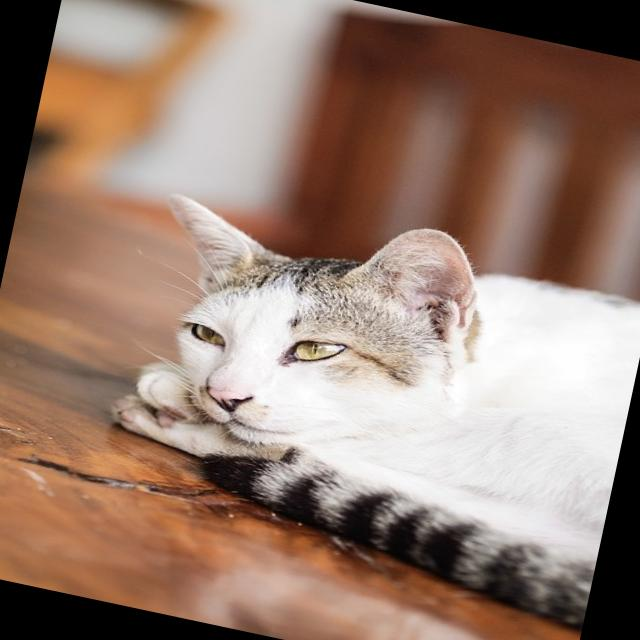animal: (63, 153, 640, 602)
